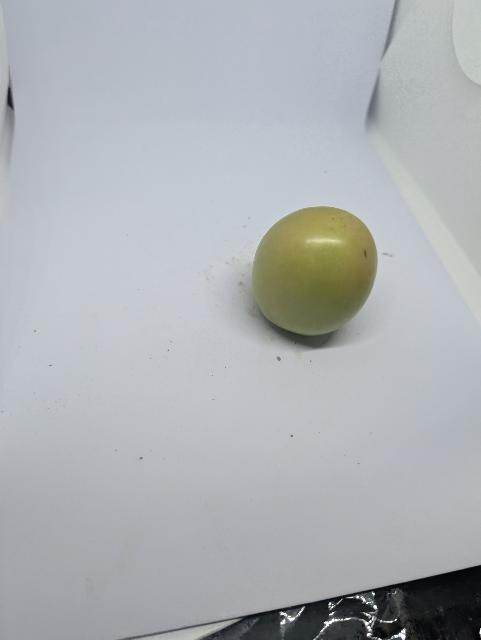green: (250, 203, 380, 338)
